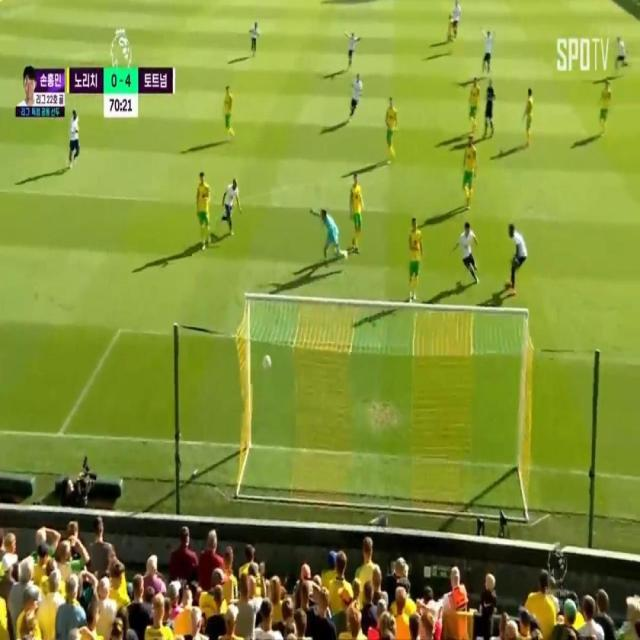ball: (261, 344, 275, 369)
goalkeeper: (310, 193, 349, 284)
player: (502, 214, 528, 310), (453, 227, 482, 289), (193, 166, 212, 250), (220, 175, 245, 237), (406, 212, 422, 301), (459, 139, 477, 208), (351, 167, 365, 254), (66, 103, 85, 165), (345, 68, 368, 119), (383, 94, 399, 162), (466, 69, 480, 138), (596, 78, 612, 137), (341, 24, 362, 65), (479, 21, 495, 74), (612, 31, 628, 75), (246, 12, 262, 55), (221, 87, 235, 135), (526, 83, 536, 148), (452, 0, 462, 37), (446, 14, 456, 44)
referee: (483, 78, 502, 140)
